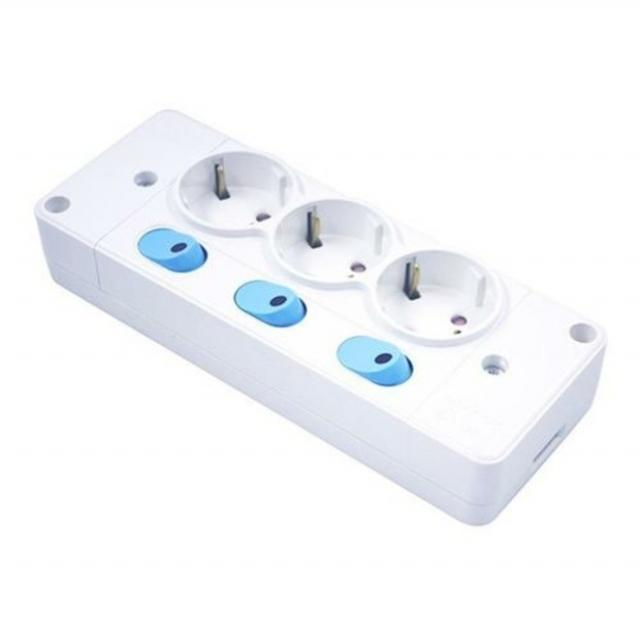typeb: (4, 81, 613, 554)
